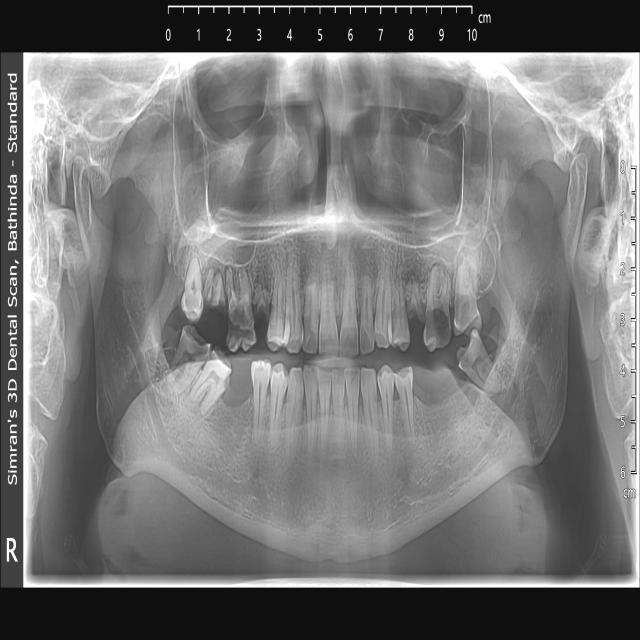Caries: (452, 296, 480, 333), (426, 310, 450, 347), (228, 307, 254, 340), (188, 333, 208, 359)
Mandibular Canal: (402, 287, 547, 503), (118, 297, 216, 482)
Missing teeth: (413, 365, 479, 405), (223, 352, 255, 414)
Periapical lesion: (426, 253, 452, 283), (224, 261, 236, 302)
Root Piece: (201, 268, 224, 308), (251, 283, 271, 321), (408, 275, 424, 318)
maxillary sinus: (341, 77, 491, 249), (173, 81, 288, 266)
